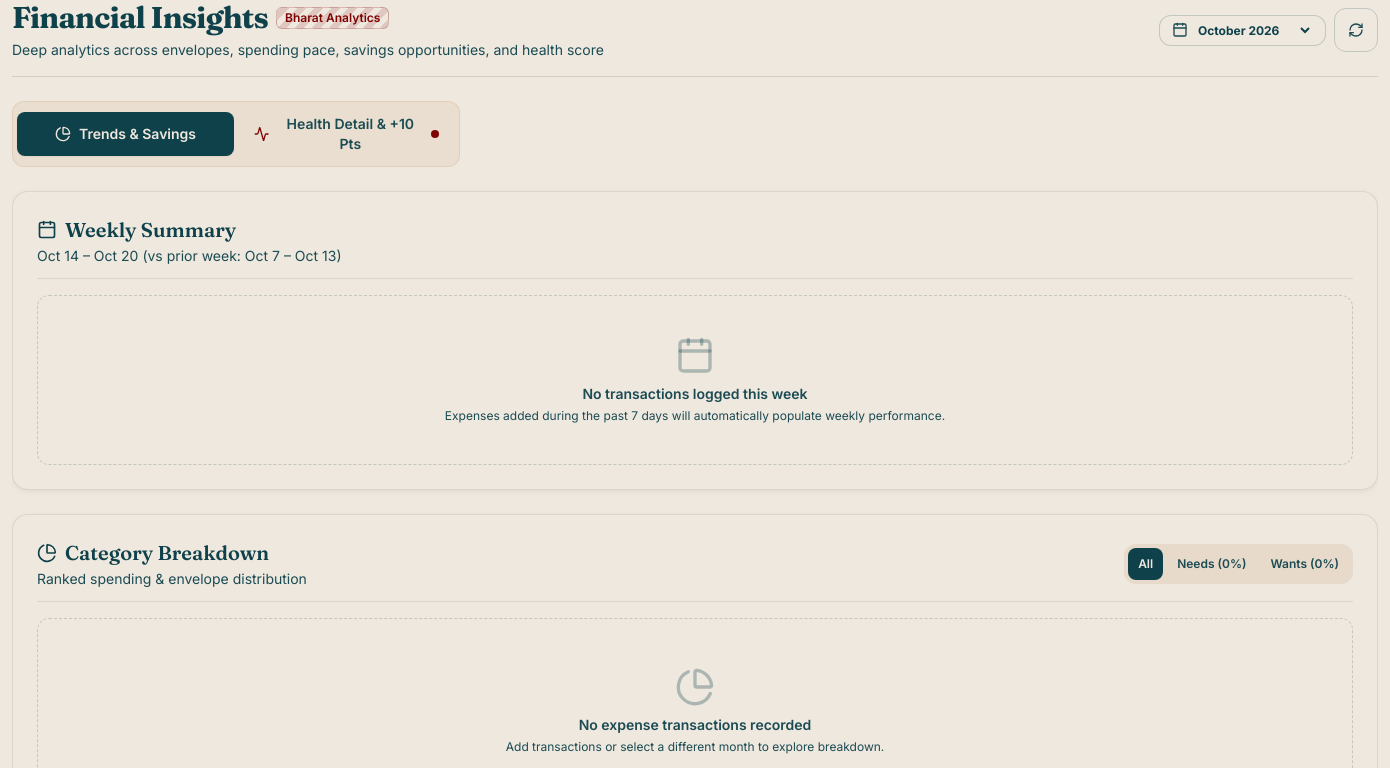
Insights Screen & Component Suite › renders full InsightsScreen integrated with tabs and switches smoothly
Expected: the heading "Financial Insights" is shown, [12,0,268,36]
Expected: the text "Trends & Savings" is shown, [79,124,196,144]
# Switch to Health tab
Step 1. Click the button "Health Detail & +10 Pts" → coordinates (346, 134), box [238,106,455,162]
(page scrolled)
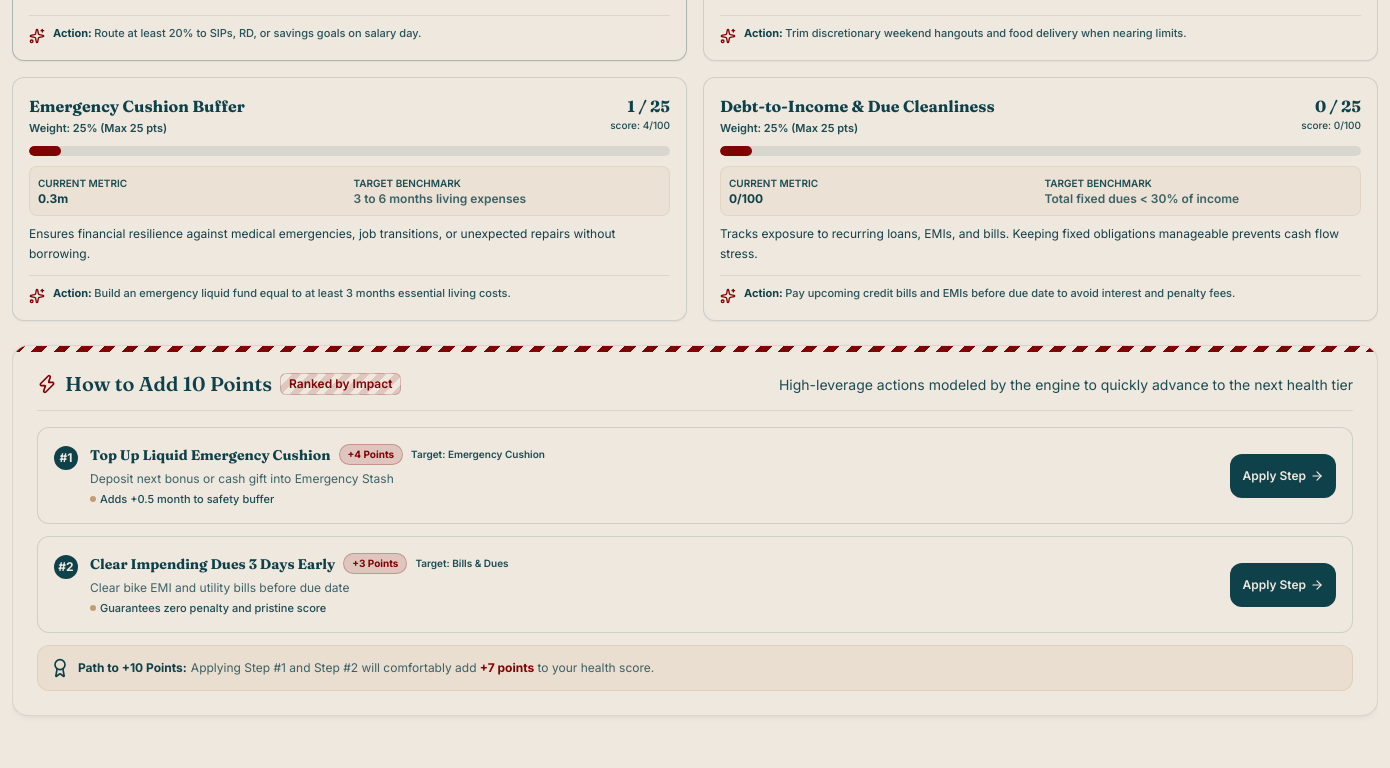
Expected: the heading "How to Add 10 Points" is shown, [65,370,272,398]
